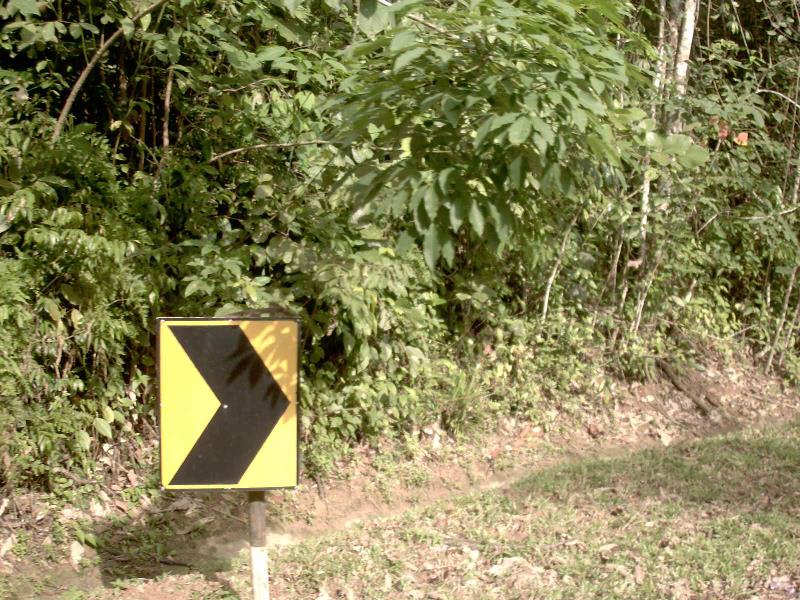traffic_sign: (138, 299, 321, 510)
